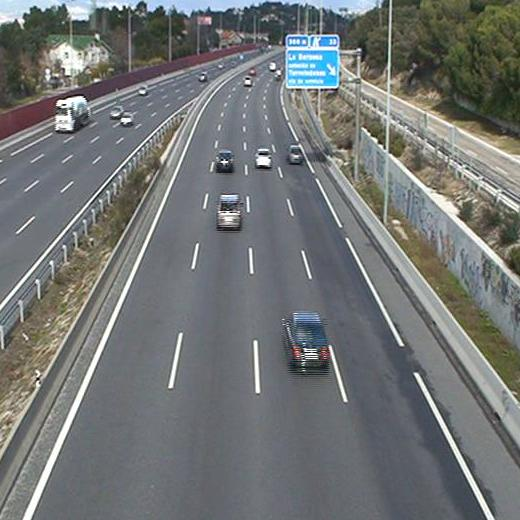car: (281, 311, 331, 369), (215, 192, 243, 227), (213, 150, 236, 171), (253, 148, 272, 166), (286, 145, 304, 161)
